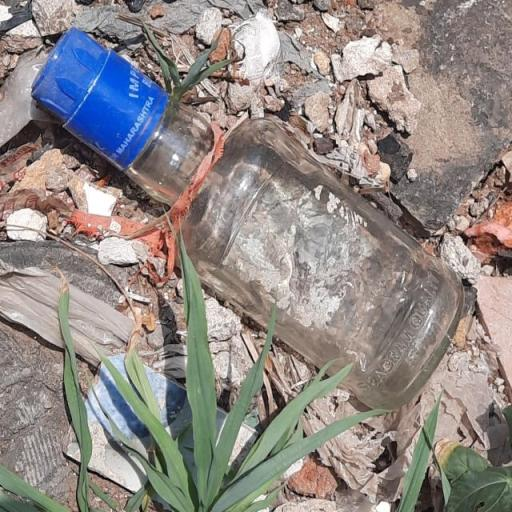glass: (23, 32, 469, 396)
